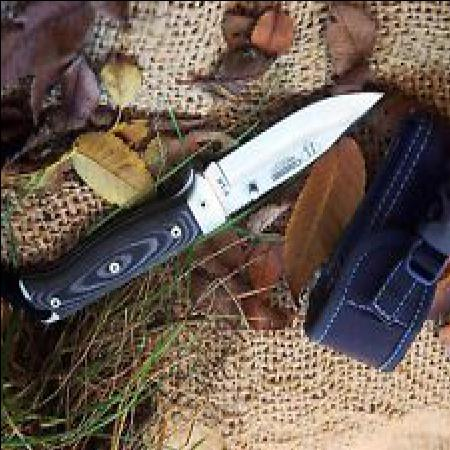long weapon: (170, 89, 392, 245)
